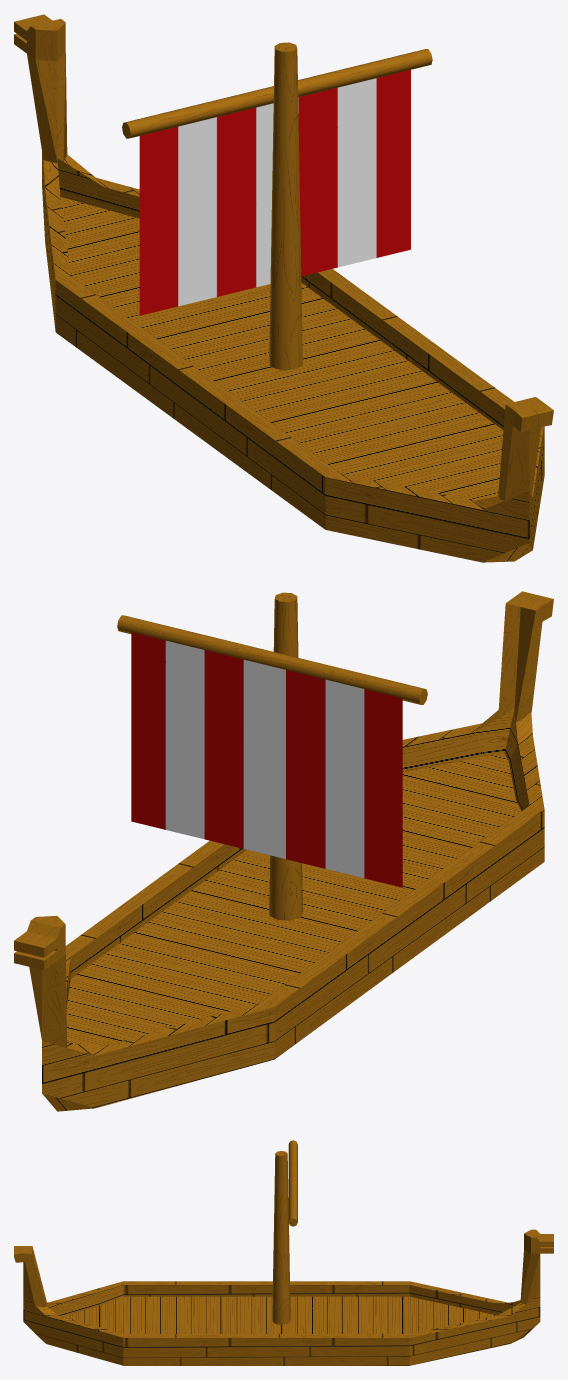
File: Drakkar.FBX
3 views of the same model, one above another, from view 1: azimuth 30°, elevation 25°; view 2: azimuth 150°, elevation 25°; view 3: azimuth 270°, elevation 25° (orthographic). The views are drawn at different scales.
Parts seen in each view (by area): view 1: CubiertaDrakkar, VelaDrakkar, CascoBaborDrakkar, CascoBaborDrakkar001, MastilDrakkar, TravesañoDrakkar, CabezaDrakkar, ColaDrakkar, CabezaDrakkar001, ColaDrakkar001; view 2: VelaDrakkar, CubiertaDrakkar, CascoBaborDrakkar, CascoBaborDrakkar001, TravesañoDrakkar, MastilDrakkar, CabezaDrakkar, ColaDrakkar, ColaDrakkar001, CabezaDrakkar001; view 3: CascoBaborDrakkar001, CubiertaDrakkar, CascoBaborDrakkar, MastilDrakkar, CabezaDrakkar001, ColaDrakkar001, TravesañoDrakkar.
Boxes of the visible parts, x1=… form: CubiertaDrakkar: x1=60, y1=197, x2=503, y2=500; VelaDrakkar: x1=139, y1=70, x2=410, y2=315; CascoBaborDrakkar: x1=42, y1=152, x2=529, y2=562; CascoBaborDrakkar001: x1=57, y1=154, x2=544, y2=560; MastilDrakkar: x1=269, y1=42, x2=302, y2=370; TravesañoDrakkar: x1=122, y1=49, x2=432, y2=138; CabezaDrakkar: x1=14, y1=18, x2=57, y2=162; ColaDrakkar: x1=498, y1=400, x2=537, y2=502; CabezaDrakkar001: x1=29, y1=14, x2=67, y2=161; ColaDrakkar001: x1=521, y1=397, x2=553, y2=495; VelaDrakkar: x1=131, y1=632, x2=402, y2=887; CubiertaDrakkar: x1=66, y1=753, x2=521, y2=1046; CascoBaborDrakkar: x1=42, y1=709, x2=544, y2=1111; CascoBaborDrakkar001: x1=65, y1=708, x2=514, y2=1008; TravesañoDrakkar: x1=117, y1=615, x2=427, y2=704; MastilDrakkar: x1=269, y1=592, x2=302, y2=920; CabezaDrakkar: x1=29, y1=916, x2=67, y2=1047; ColaDrakkar: x1=514, y1=595, x2=553, y2=722; ColaDrakkar001: x1=498, y1=591, x2=537, y2=718; CabezaDrakkar001: x1=14, y1=916, x2=56, y2=1039; CascoBaborDrakkar001: x1=23, y1=1294, x2=540, y2=1365; CubiertaDrakkar: x1=63, y1=1296, x2=495, y2=1333; CascoBaborDrakkar: x1=46, y1=1281, x2=520, y2=1316; MastilDrakkar: x1=272, y1=1151, x2=290, y2=1324; CabezaDrakkar001: x1=520, y1=1233, x2=553, y2=1304; ColaDrakkar001: x1=14, y1=1249, x2=46, y2=1307; TravesañoDrakkar: x1=288, y1=1140, x2=297, y2=1226.
Bounding box in the file's own units: 733 × 804 × 2139.
